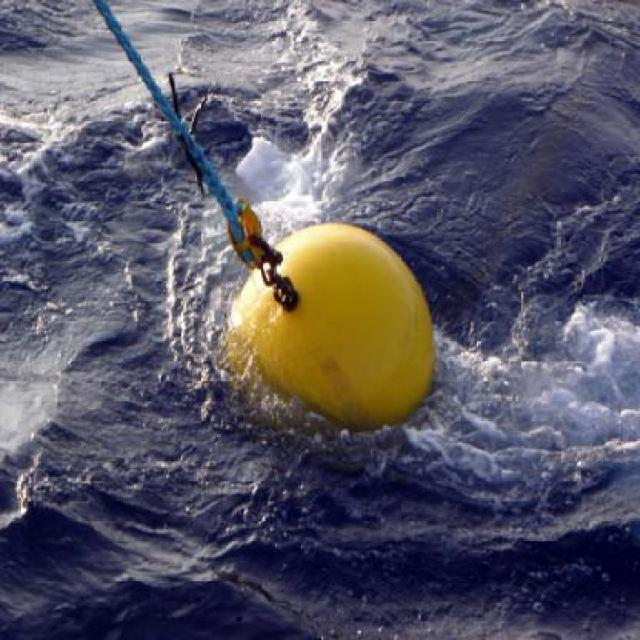a: (55, 2, 398, 397), (200, 197, 471, 453), (69, 1, 272, 233)
